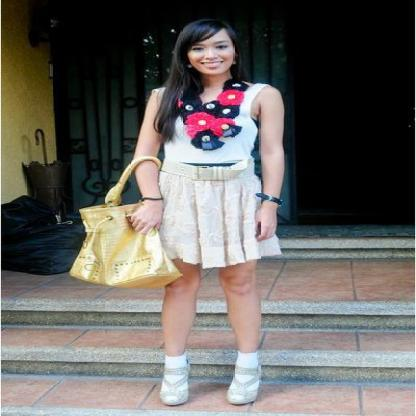bag: (70, 175, 181, 303)
dress: (160, 82, 281, 268)
shoe: (160, 351, 261, 401)
